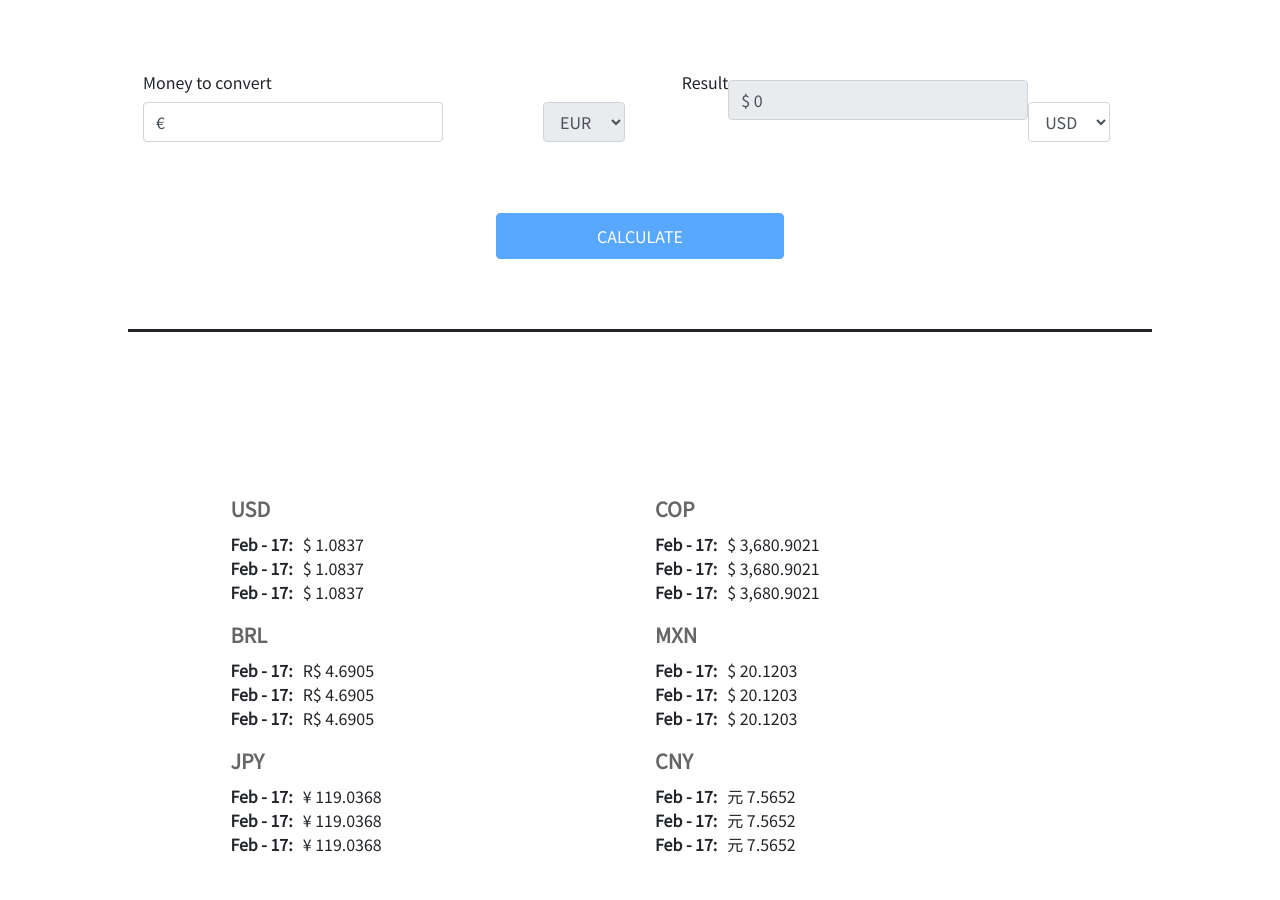
it: <Currencies/> › When calculate btn click, it should convert 10 euro in 20 dollars if dollar rate is 2
Replace the text in the field with id "converter" with "€ 10" at (293, 122), box x1=143 y1=102 x2=443 y2=142
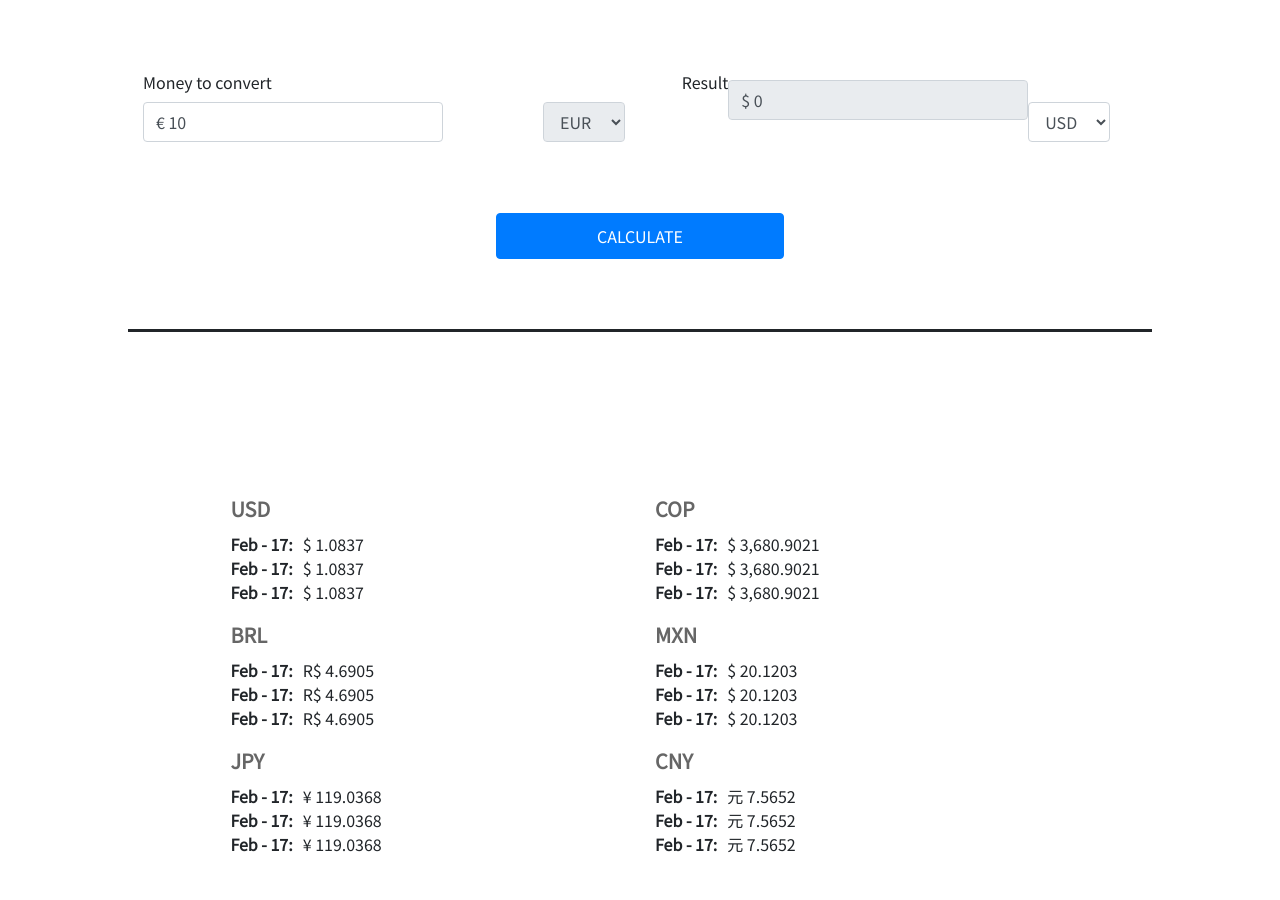
Click the button "CALCULATE".
click(640, 236)  # box x1=496 y1=213 x2=784 y2=259
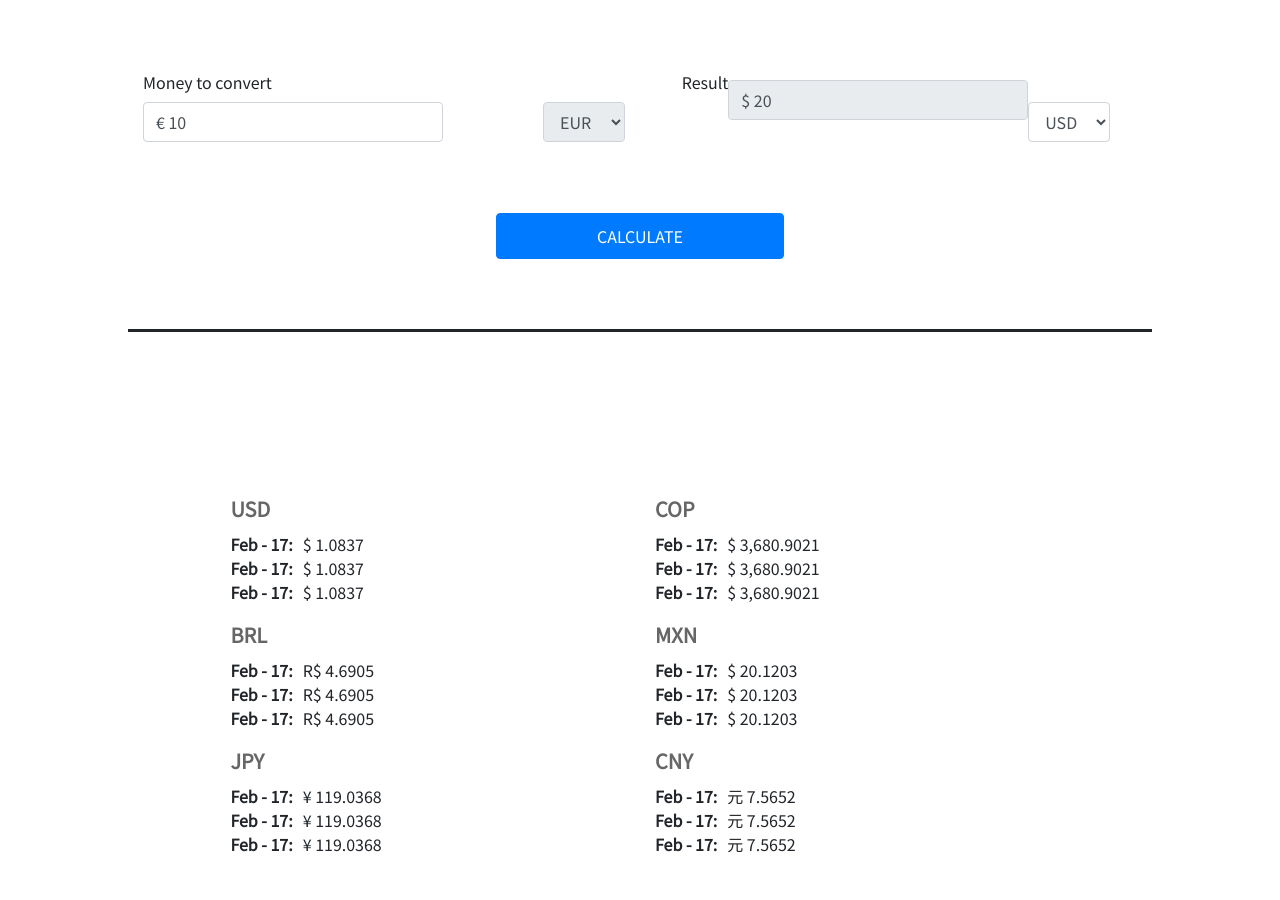
Expected: the field with id "changed-money" holds "$ 20", x1=728 y1=80 x2=1028 y2=120
